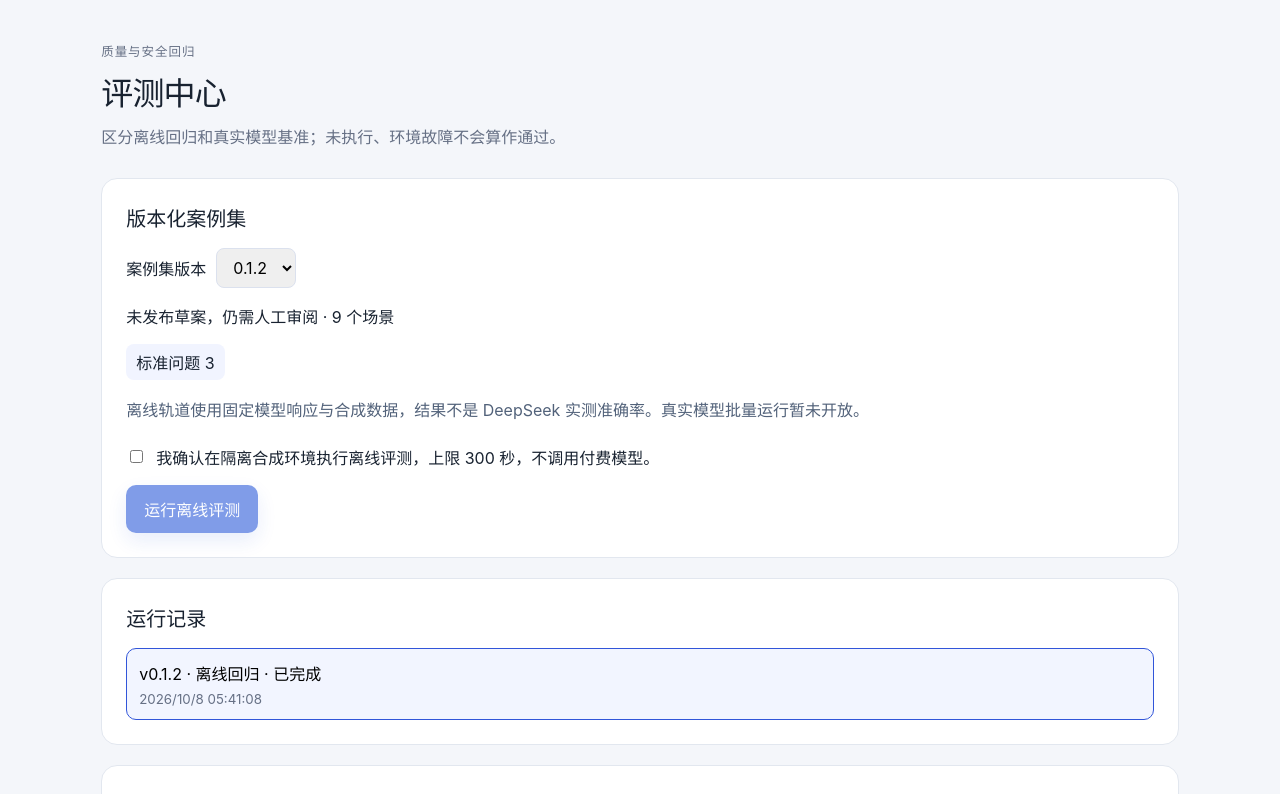
labels drafts and never fabricates missing metrics
Expected: the text "未发布草案，仍需人工审阅 · 9 个场景" is shown, [126,307,394,327]
Expected: the text "离线轨道使用固定模型响应与合成数据，结果不是 DeepSeek 实测准确率。真实模型批量运行暂未开放。" is shown, [126,400,869,420]
Click the checkbox.
click(137, 457)  # box [130,450,143,463]
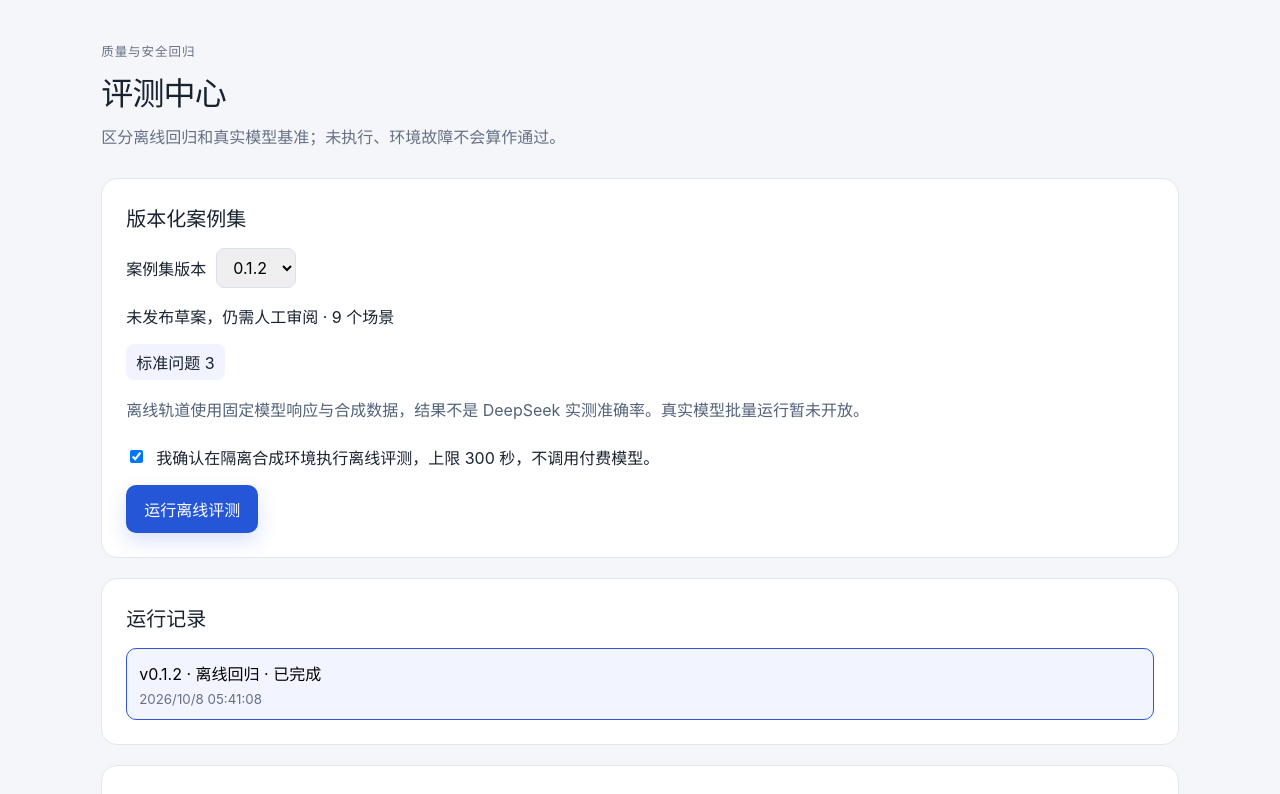
Expected: the button "运行离线评测" is enabled, [126,485,258,533]
